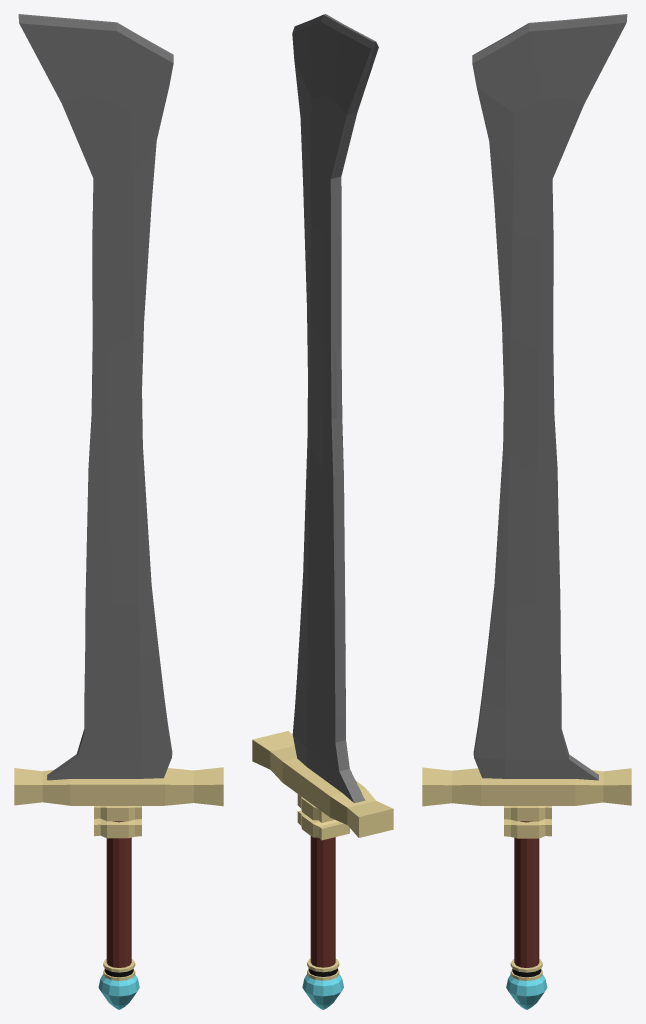
The model's file is sword low poly .fbx.
3 renders of one model, left to right at view 1: azimuth 90°, elevation 25°; view 2: azimuth 210°, elevation 25°; view 3: azimuth 270°, elevation 25°, orthographic.
Parts seen in each view (by area): view 1: sword, guard, hilt, stone, guard.002, guard.001; view 2: sword, guard, hilt, stone, guard.002, guard.001; view 3: sword, guard, hilt, stone, guard.002, guard.001.
Part boxes in pixels (left/top/right/bottom): sword: left=18, top=14, right=173, bottom=780; guard: left=14, top=767, right=223, bottom=806; hilt: left=106, top=821, right=131, bottom=967; stone: left=98, top=974, right=139, bottom=1009; guard.002: left=94, top=818, right=141, bottom=838; guard.001: left=94, top=806, right=141, bottom=821; sword: left=292, top=14, right=378, bottom=803; guard: left=252, top=731, right=393, bottom=837; hilt: left=310, top=836, right=335, bottom=967; stone: left=302, top=974, right=343, bottom=1009; guard.002: left=297, top=810, right=349, bottom=840; guard.001: left=297, top=794, right=334, bottom=822; sword: left=472, top=14, right=627, bottom=780; guard: left=422, top=767, right=631, bottom=806; hilt: left=514, top=821, right=539, bottom=967; stone: left=506, top=974, right=547, bottom=1009; guard.002: left=504, top=819, right=551, bottom=838; guard.001: left=504, top=806, right=551, bottom=821.
Bounding box in the file's own units: 4.46 × 118 × 22.57.
